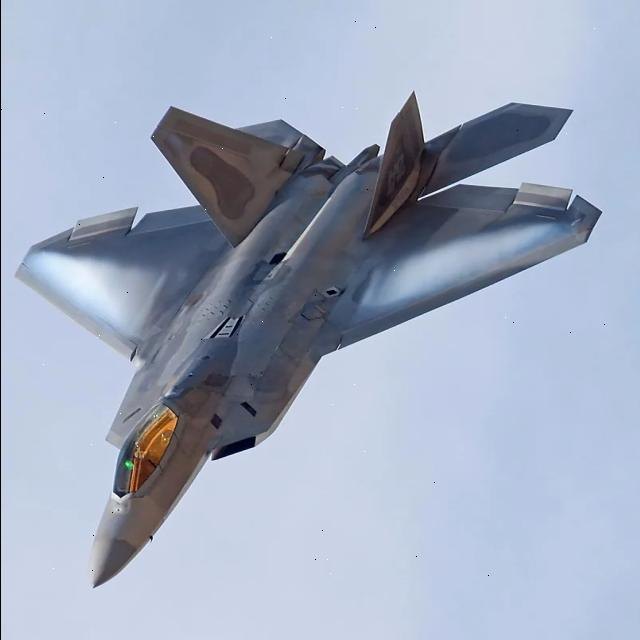F22: (0, 0, 619, 625)
